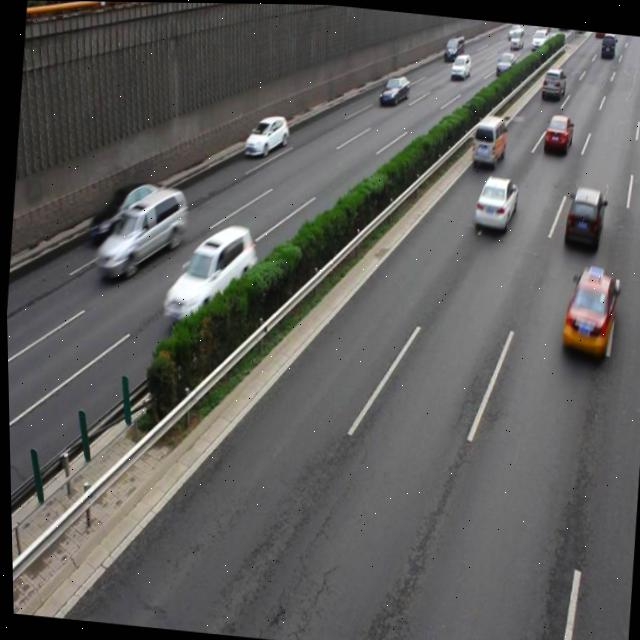car: (156, 216, 259, 330), (555, 262, 616, 359), (86, 172, 166, 245), (559, 181, 605, 251), (469, 170, 517, 232), (241, 109, 290, 159), (539, 110, 573, 153)
truck: (89, 179, 189, 286), (467, 111, 507, 165)
